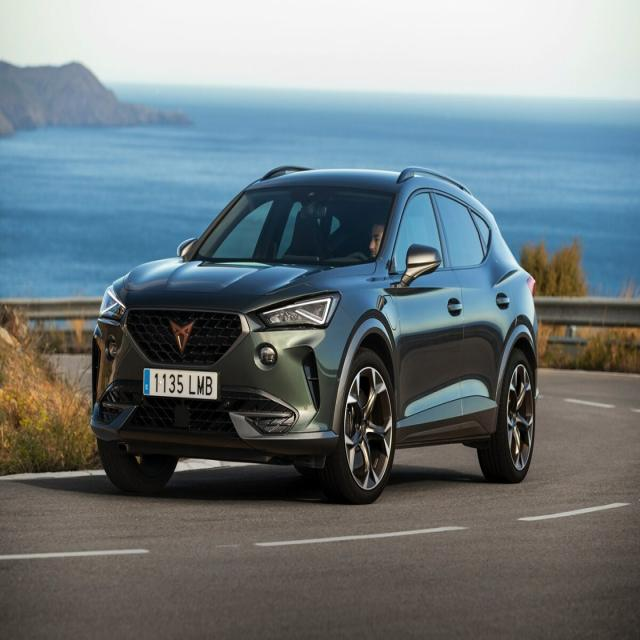SUV: (90, 159, 540, 502)
